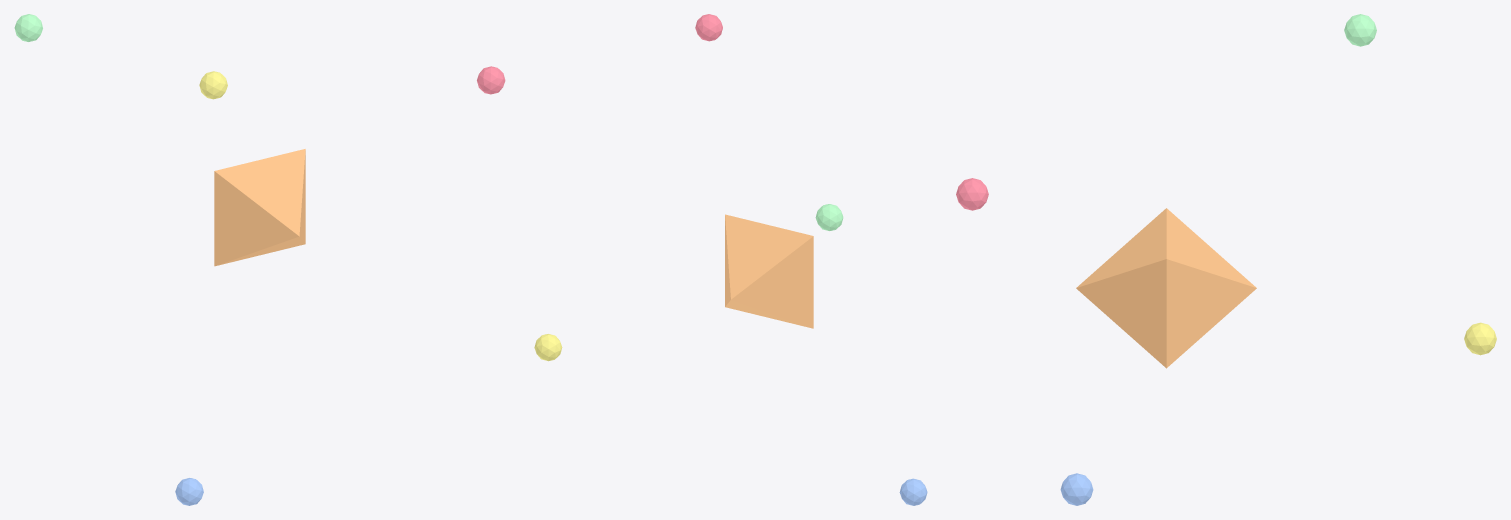
Rendered from digital_dodeca_heart_tau200.glb.
3 renders of one model, left to right at view 1: azimuth 30°, elevation 25°; view 2: azimuth 150°, elevation 25°; view 3: azimuth 270°, elevation 25°, orthographic. The views are drawn at different scales.
Parts seen in each view (by area): view 1: inner_crystal, face_3_marker, face_5_marker, face_11_marker, face_9_marker; view 2: inner_crystal, face_11_marker, face_3_marker, face_5_marker, face_9_marker; view 3: inner_crystal, face_5_marker, face_11_marker, face_9_marker, face_3_marker.
Part boxes in pixels (x1,y1,x2,y2): inner_crystal: (214, 149, 305, 266); face_3_marker: (477, 66, 505, 94); face_5_marker: (199, 71, 227, 99); face_11_marker: (175, 478, 203, 505); face_9_marker: (14, 14, 42, 41); inner_crystal: (725, 214, 813, 328); face_11_marker: (899, 478, 927, 505); face_3_marker: (695, 14, 722, 41); face_5_marker: (534, 334, 562, 361); face_9_marker: (815, 204, 843, 230); inner_crystal: (1076, 208, 1256, 368); face_5_marker: (1464, 322, 1496, 355); face_11_marker: (1060, 473, 1093, 505); face_9_marker: (1344, 14, 1376, 46); face_3_marker: (956, 178, 988, 210).
Bounding box in the file's own units: 1.28 × 1.57 × 1.64.
